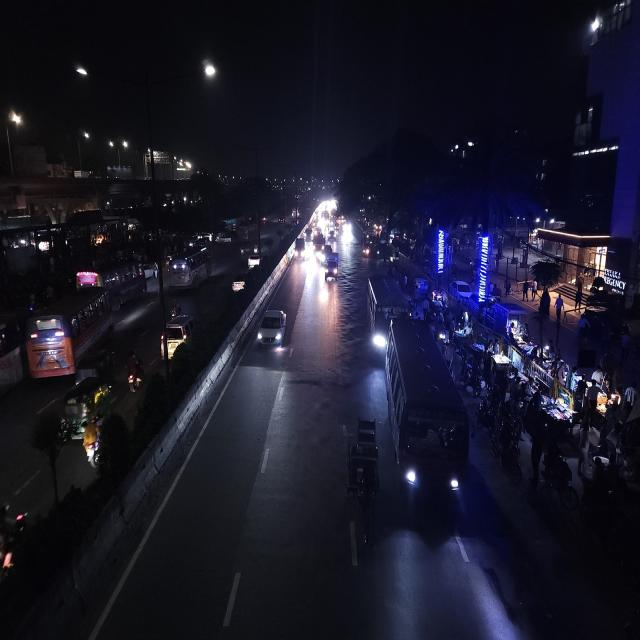bus: (382, 320, 471, 521), (24, 285, 118, 383), (364, 272, 410, 354), (168, 246, 212, 292)
car: (158, 312, 196, 358), (255, 305, 289, 352), (450, 276, 474, 306), (231, 272, 248, 296), (246, 251, 262, 271)
cng: (59, 373, 114, 431)
motorcycle: (77, 413, 106, 469), (125, 349, 145, 396)
rickshaw: (342, 454, 382, 550)
truck: (324, 253, 340, 284), (294, 235, 308, 263)
